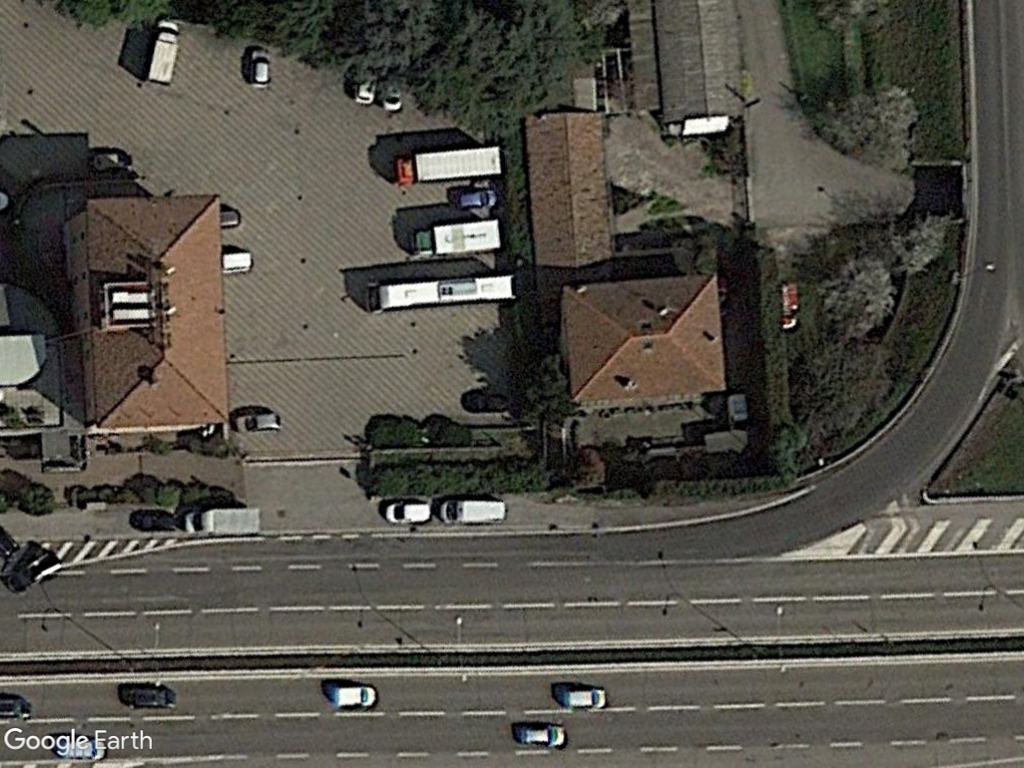bus: (358, 269, 516, 316)
car: (516, 720, 572, 752), (328, 681, 380, 714), (559, 685, 610, 715), (232, 408, 284, 436), (245, 43, 274, 93), (451, 186, 499, 209)
longvehicle: (390, 141, 502, 187)
truck: (408, 215, 502, 260), (144, 16, 179, 87)
van: (180, 505, 263, 540), (435, 492, 509, 526), (379, 497, 437, 526)
